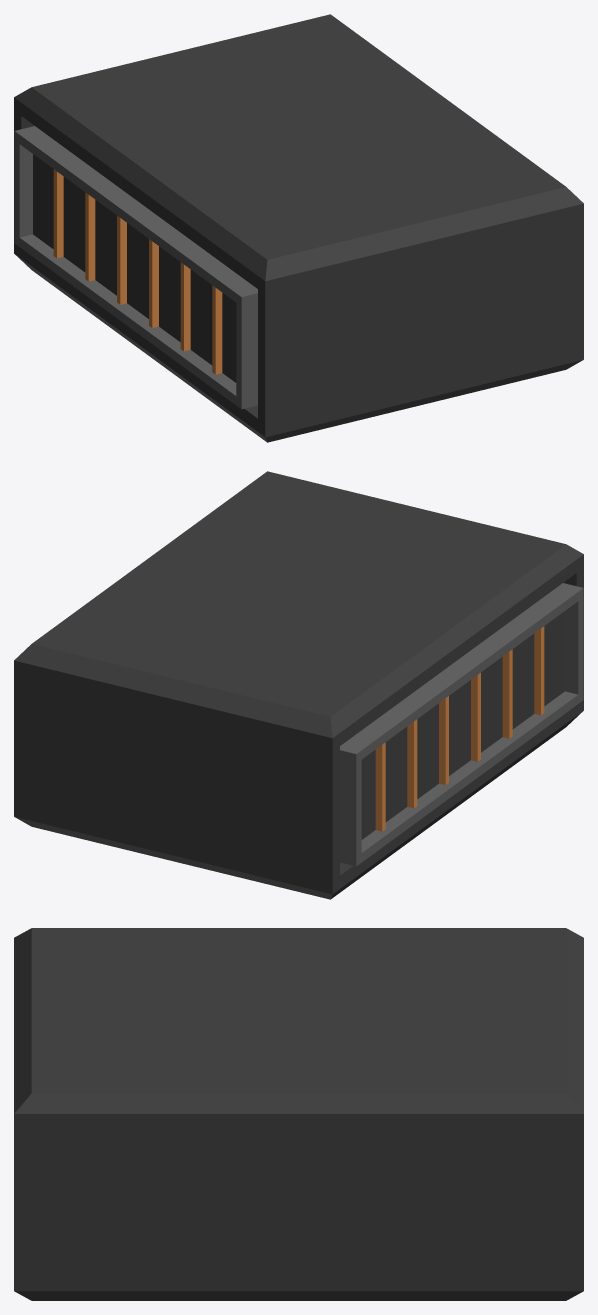
The model's file is Data_Box_01_C.FBX.
3 views of the same model, one above another, from view 1: azimuth 30°, elevation 25°; view 2: azimuth 150°, elevation 25°; view 3: azimuth 270°, elevation 25° (orthographic). The views are drawn at different scales.
Parts seen in each view (by area): view 1: Data_Box_01_C_LOD0; view 2: Data_Box_01_C_LOD0; view 3: Data_Box_01_C_LOD0.
Boxes of the visible parts, x1,y1,x2,y2 form: Data_Box_01_C_LOD0: (14, 14, 583, 442); Data_Box_01_C_LOD0: (14, 471, 583, 899); Data_Box_01_C_LOD0: (14, 928, 583, 1300).
Size of what is drawn, in the model's own units: 25.92 by 13.71 by 34.16.
